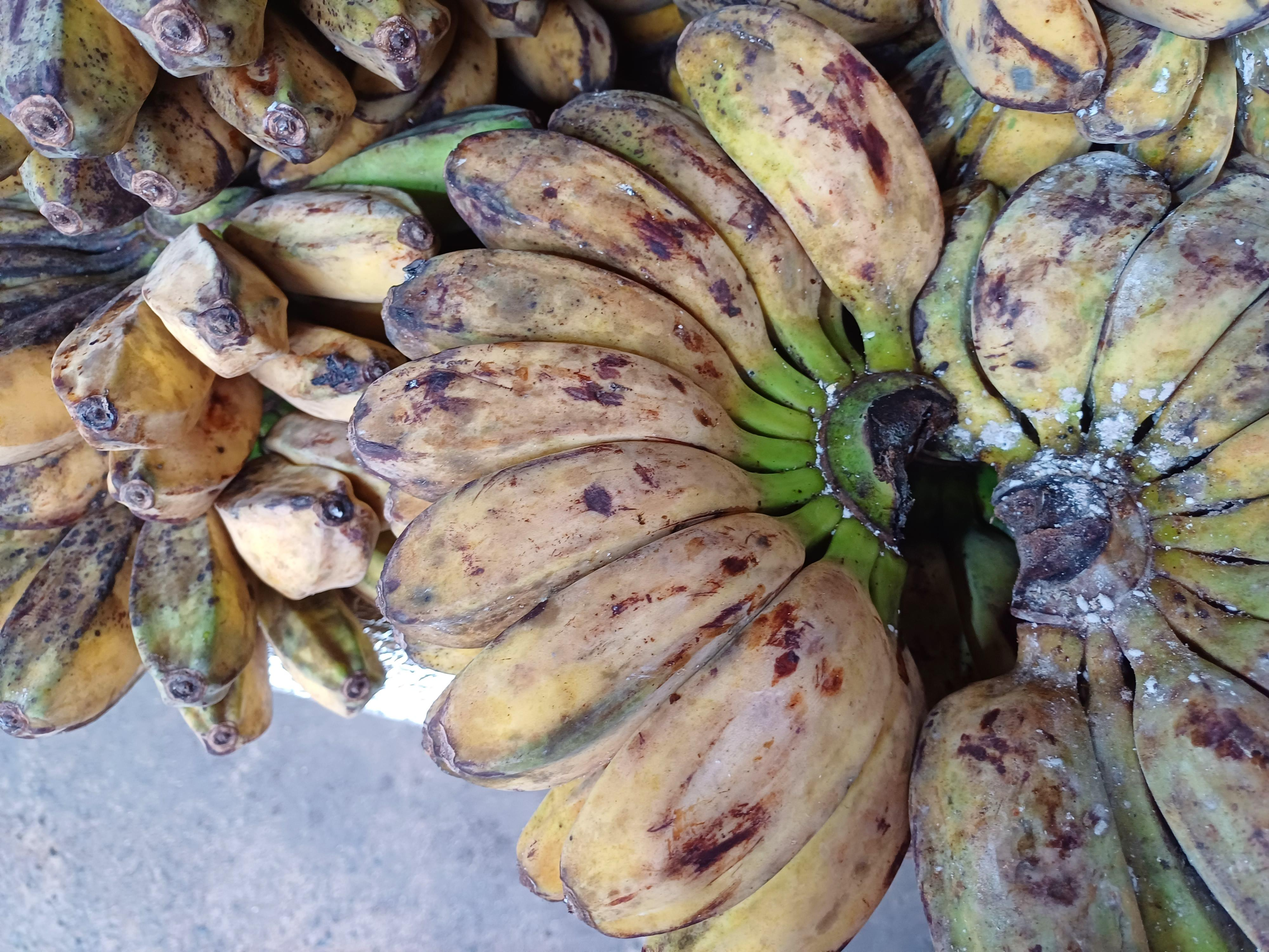ripe: (347, 5, 948, 952), (0, 104, 545, 530)
underripe: (909, 149, 1269, 952), (0, 0, 618, 236), (0, 415, 396, 758), (857, 0, 1269, 210)
